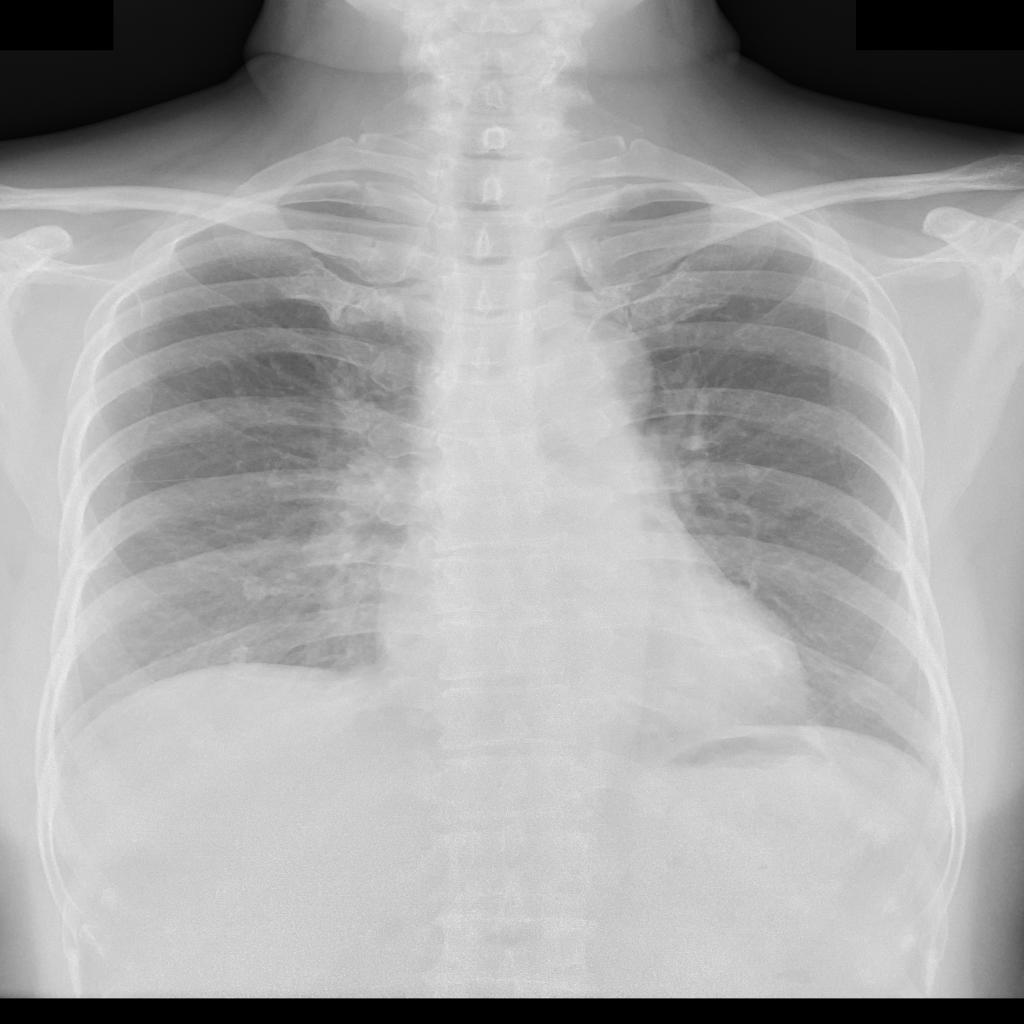Nodule: (243, 574, 313, 603), (224, 645, 250, 665)
